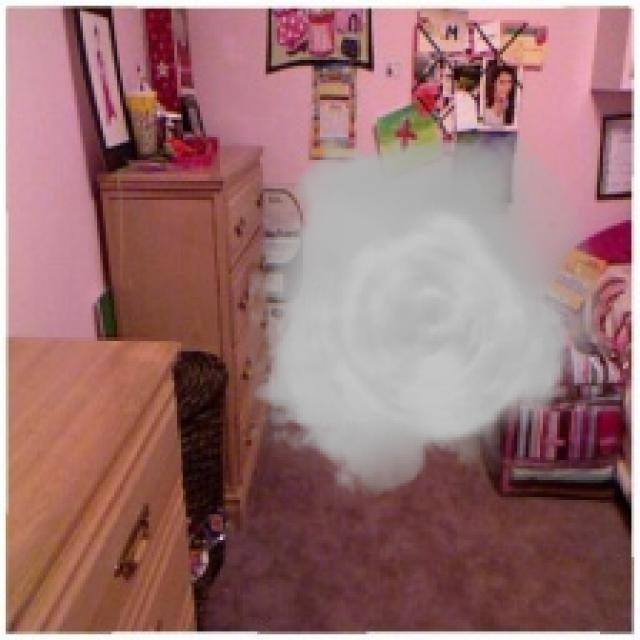smoke: (248, 111, 603, 508)
